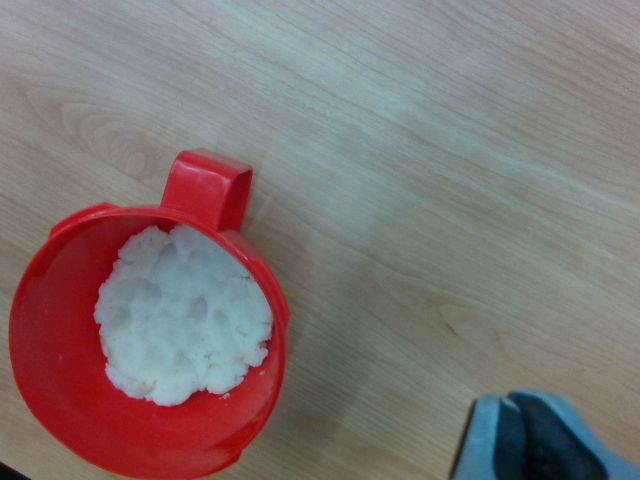mashed_potato: (96, 225, 271, 405)
